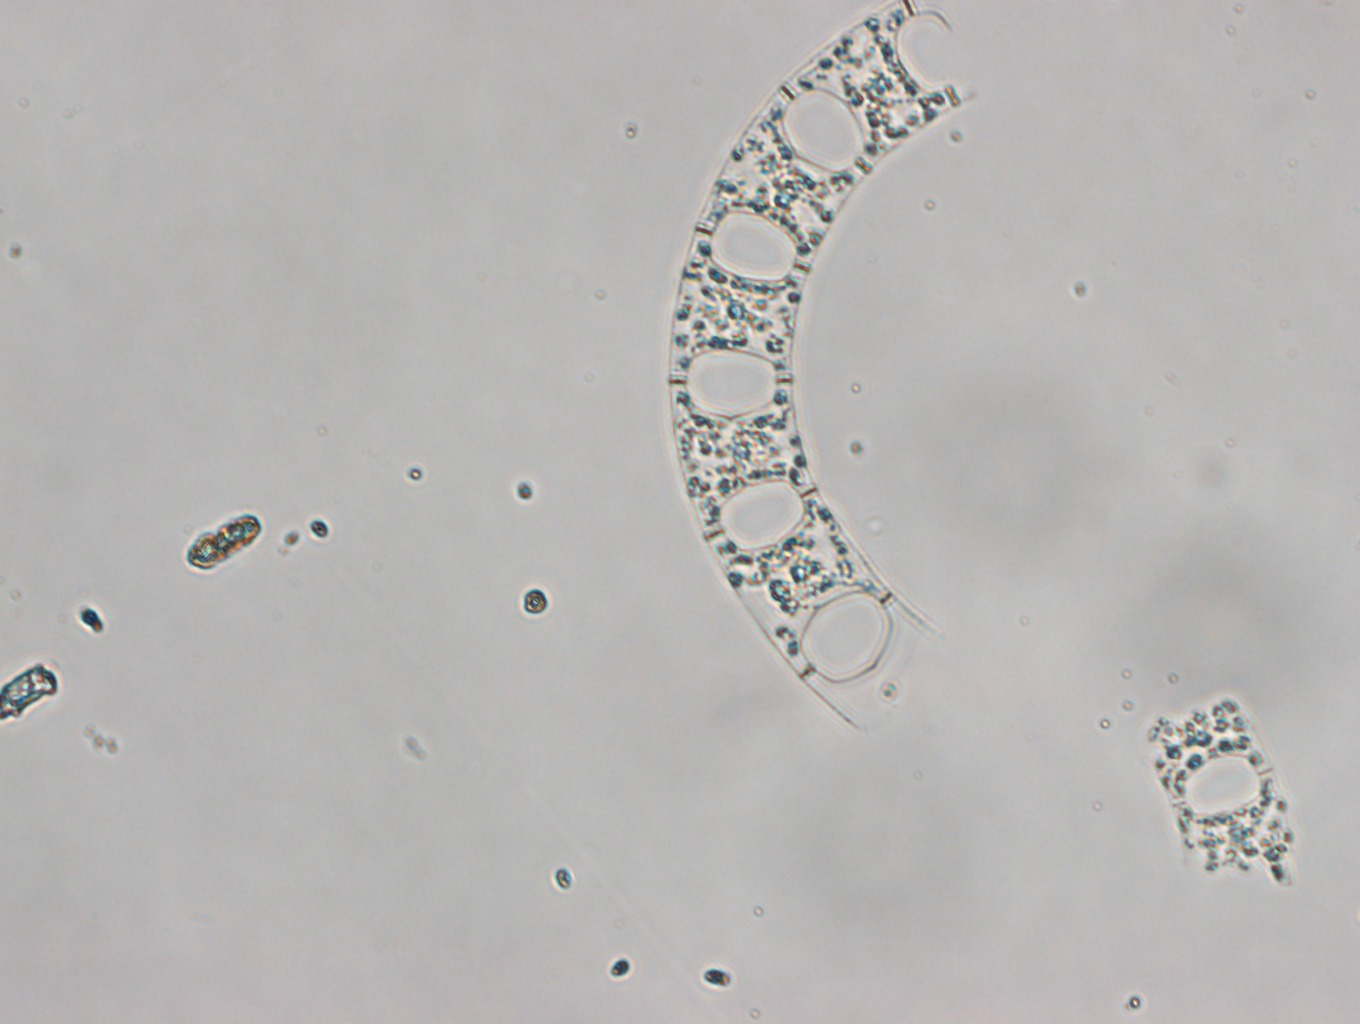eucampia: (665, 1, 979, 727), (1144, 696, 1302, 892)
